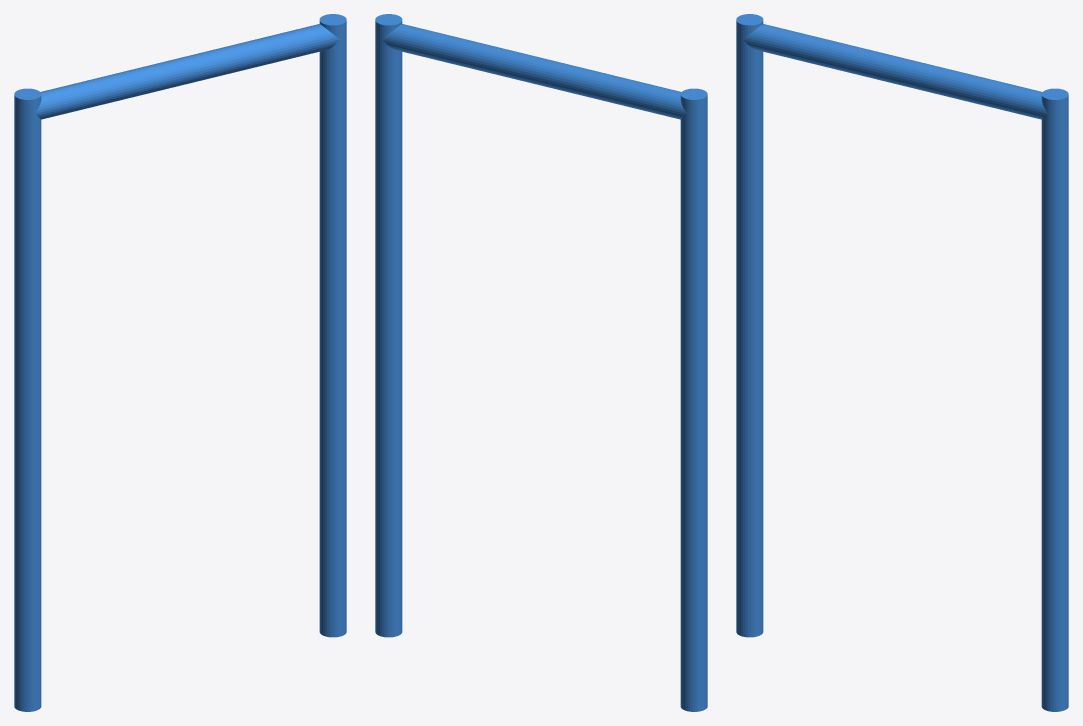
File: TiangAyunan.fbx
3 renders of one model, left to right at view 1: azimuth 30°, elevation 25°; view 2: azimuth 150°, elevation 25°; view 3: azimuth 330°, elevation 25°, orthographic.
Visible parts, largest first — view 1: rambut.001; view 2: rambut.001; view 3: rambut.001.
Boxes of the visible parts, box(x1,y1,x2,y2) form: rambut.001: box(14, 14, 346, 711); rambut.001: box(375, 14, 707, 711); rambut.001: box(736, 14, 1068, 711).
Bounding box in the file's own units: 149 × 264 × 10.66.
